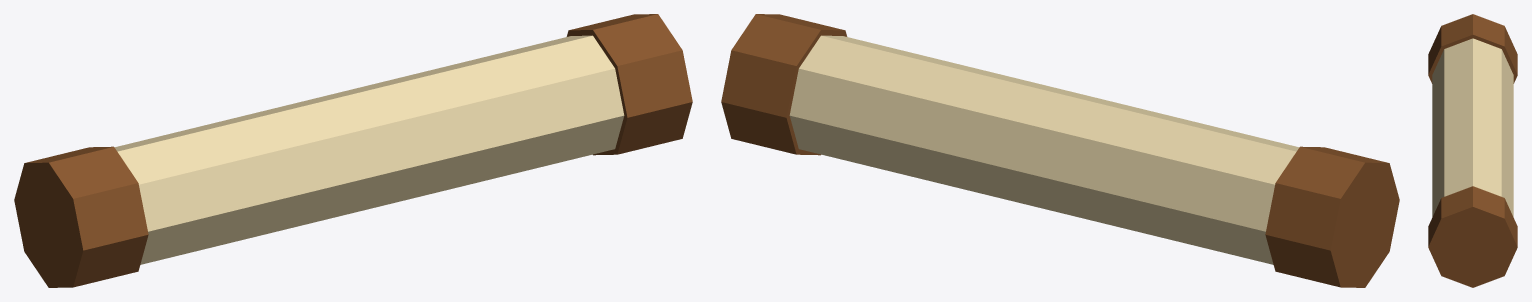
Rendered from scroll.glb.
3 views of the same model, side by side, from view 1: azimuth 30°, elevation 25°; view 2: azimuth 150°, elevation 25°; view 3: azimuth 270°, elevation 25° (orthographic). The views are drawn at different scales.
Parts seen in each view (by area): view 1: scroll; view 2: scroll; view 3: scroll.
Part boxes in pixels (box(x1,y1,x2,y2)): scroll: box(14, 14, 692, 287); scroll: box(721, 14, 1399, 287); scroll: box(1428, 14, 1517, 287).
Bounding box in the file's own units: 0.56 × 0.11 × 0.11.
